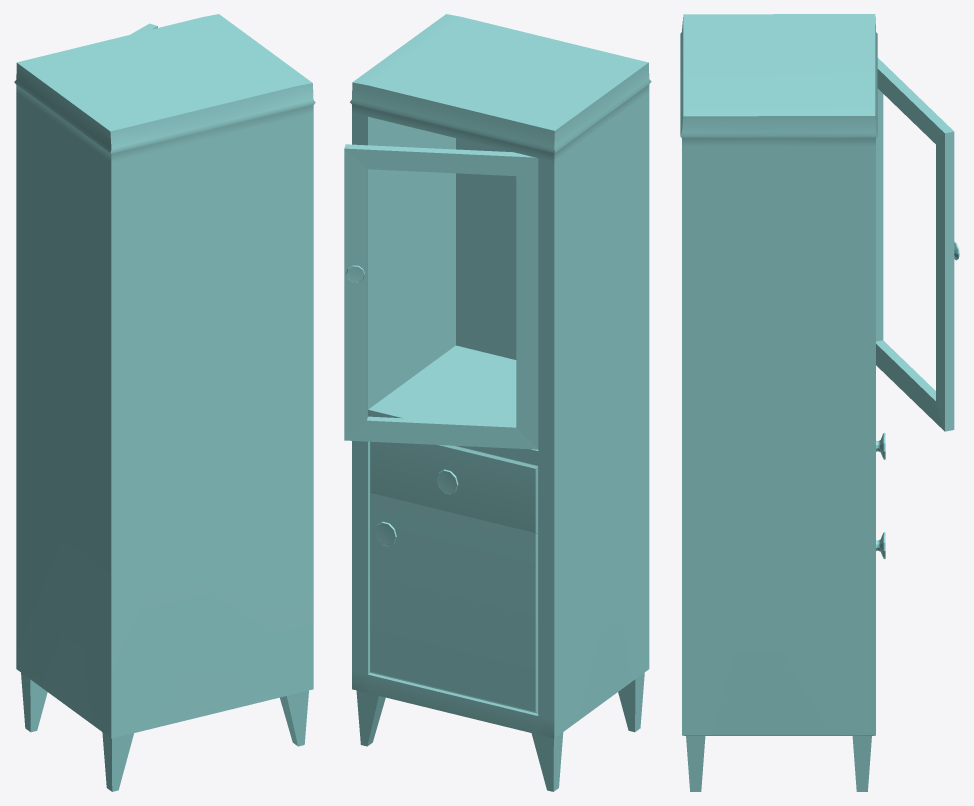
The model's file is InfirmaryCabinet01.fbx.
3 views of the same model, side by side, from view 1: azimuth 30°, elevation 25°; view 2: azimuth 150°, elevation 25°; view 3: azimuth 270°, elevation 25° (orthographic). The views are drawn at different scales.
Parts seen in each view (by area): view 1: cabinet_medium1_polySurface101; view 2: cabinet_medium1_polySurface101; view 3: cabinet_medium1_polySurface101.
Part boxes in pixels (left/top/right/bottom): cabinet_medium1_polySurface101: left=14, top=14, right=315, bottom=791; cabinet_medium1_polySurface101: left=344, top=14, right=651, bottom=791; cabinet_medium1_polySurface101: left=680, top=14, right=959, bottom=791.
Bounding box in the file's own units: 52.1 × 161 × 60.05.
